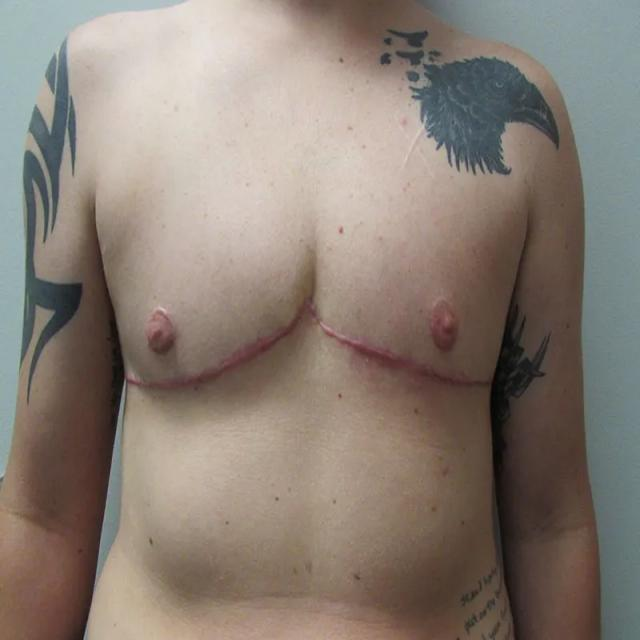Seno herido: (310, 167, 529, 415), (95, 168, 309, 415)
